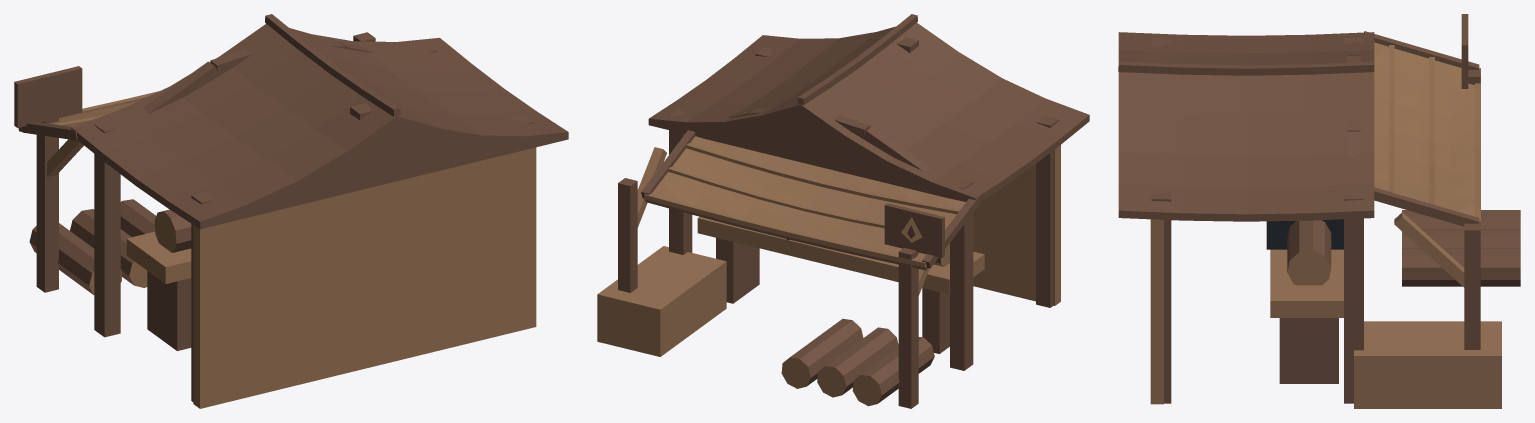
Rendered from Ashen_Sawmill.obj.
3 views of the same model, side by side, from view 1: azimuth 30°, elevation 25°; view 2: azimuth 150°, elevation 25°; view 3: azimuth 270°, elevation 25° (orthographic). The views are drawn at different scales.
Parts seen in each view (by area): view 1: Ashen_Sawmill; view 2: Ashen_Sawmill; view 3: Ashen_Sawmill.
Part boxes in pixels (<box>): Ashen_Sawmill: <box>14,14,568,408</box>; Ashen_Sawmill: <box>597,14,1089,408</box>; Ashen_Sawmill: <box>1118,14,1520,408</box>.
Bounding box in the file's own units: 5.85 × 3.96 × 5.43.
